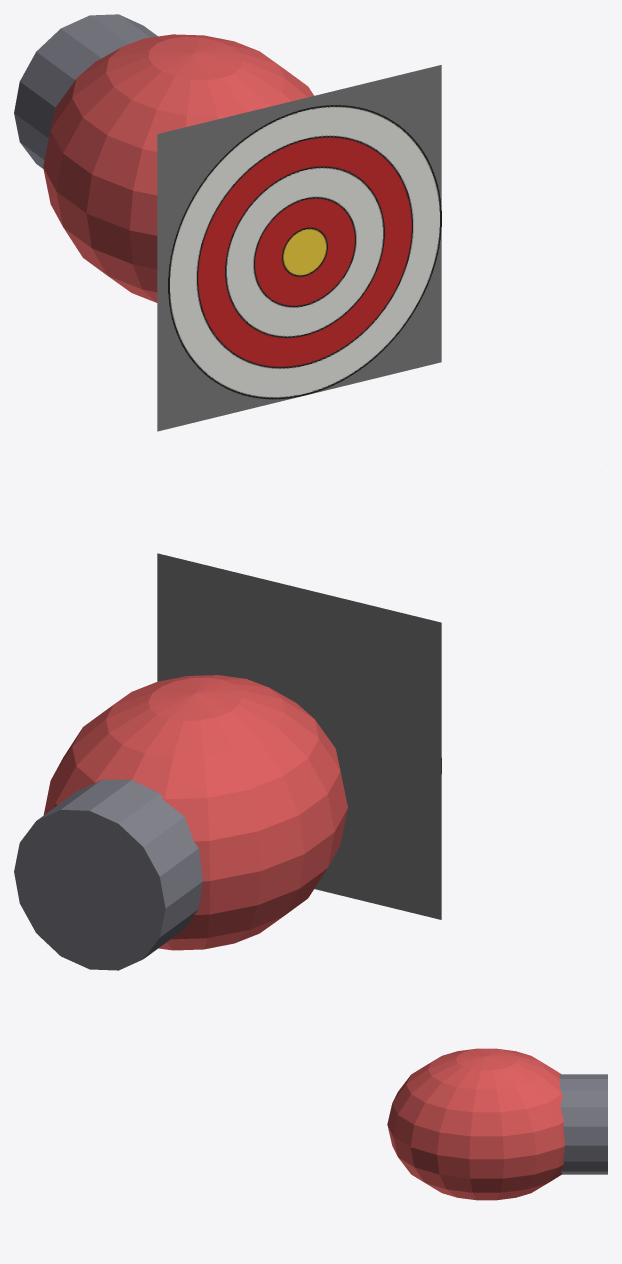
File: punch_3tou_3d.glb
3 renders of one model, top to bottom at view 1: azimuth 30°, elevation 25°; view 2: azimuth 150°, elevation 25°; view 3: azimuth 270°, elevation 25°, orthographic. The views are drawn at different scales.
Visible parts, largest first — view 1: punch_target, fist_glove, fist_wrist; view 2: punch_target, fist_glove, fist_wrist; view 3: fist_glove, fist_wrist.
Part boxes in pixels (bbox=[...]): punch_target: bbox=[157, 65, 441, 431]; fist_glove: bbox=[43, 34, 313, 302]; fist_wrist: bbox=[14, 14, 157, 168]; punch_target: bbox=[157, 553, 441, 919]; fist_glove: bbox=[43, 675, 347, 950]; fist_wrist: bbox=[14, 779, 202, 970]; fist_glove: bbox=[387, 1048, 564, 1200]; fist_wrist: bbox=[559, 1074, 607, 1174].
Bounding box in the file's own units: 0.45 × 0.45 × 1.42.
7 materials, 3 textured.
